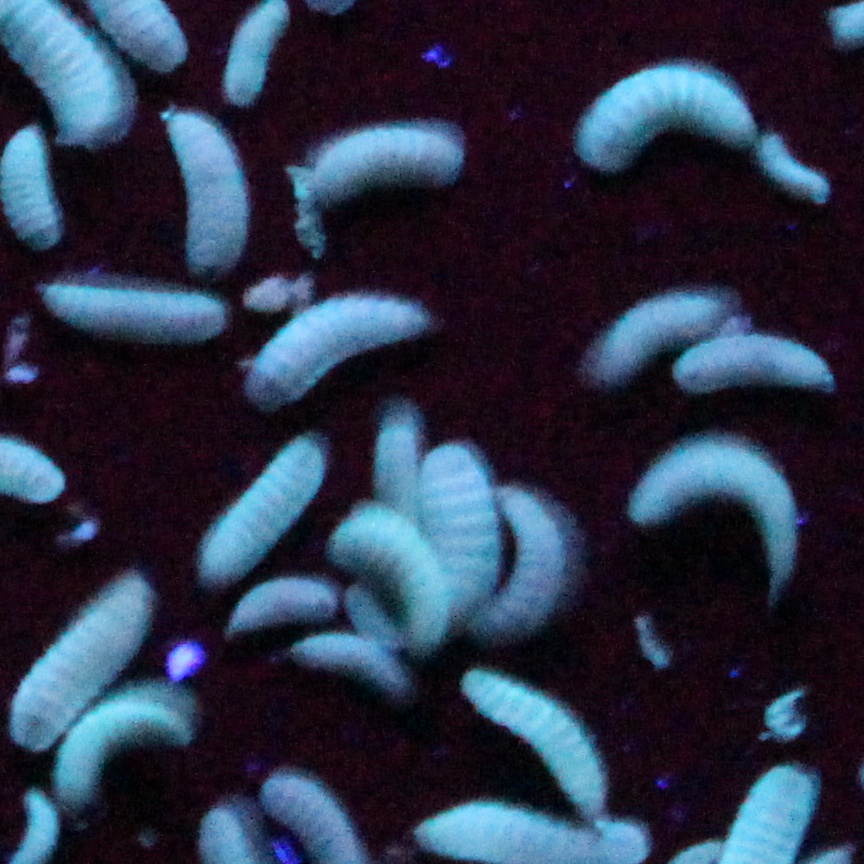larve: (626, 432, 795, 577), (10, 568, 142, 739), (572, 65, 758, 169), (465, 670, 606, 801), (253, 296, 425, 401), (205, 439, 321, 582), (55, 699, 194, 816), (162, 108, 251, 275), (334, 512, 441, 639), (36, 281, 222, 347), (418, 449, 495, 603), (494, 484, 568, 642), (589, 289, 726, 368), (308, 130, 462, 193), (673, 338, 829, 385), (297, 636, 404, 700), (226, 576, 333, 636), (764, 134, 828, 206)
